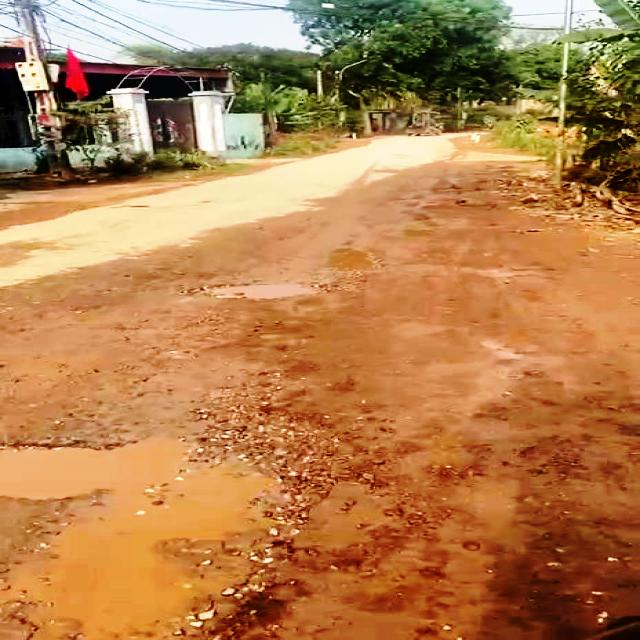pothole: (0, 421, 314, 640), (189, 278, 323, 301), (331, 244, 388, 276)
